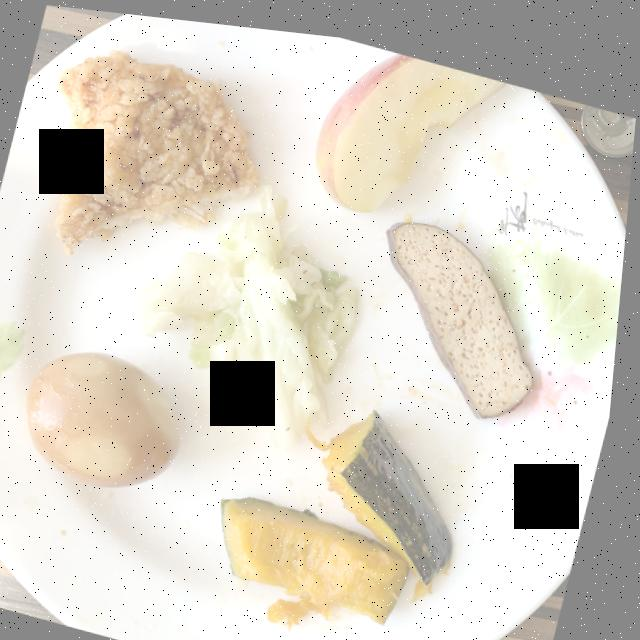apple -sliced-: (318, 44, 507, 203)
cabbage: (143, 178, 363, 442)
coin: (583, 91, 637, 142)
firm tofu: (390, 211, 538, 406)
fried chicken cutlet: (59, 46, 262, 252)
pumpkin: (230, 402, 462, 620)
soy egg: (34, 348, 188, 484)
